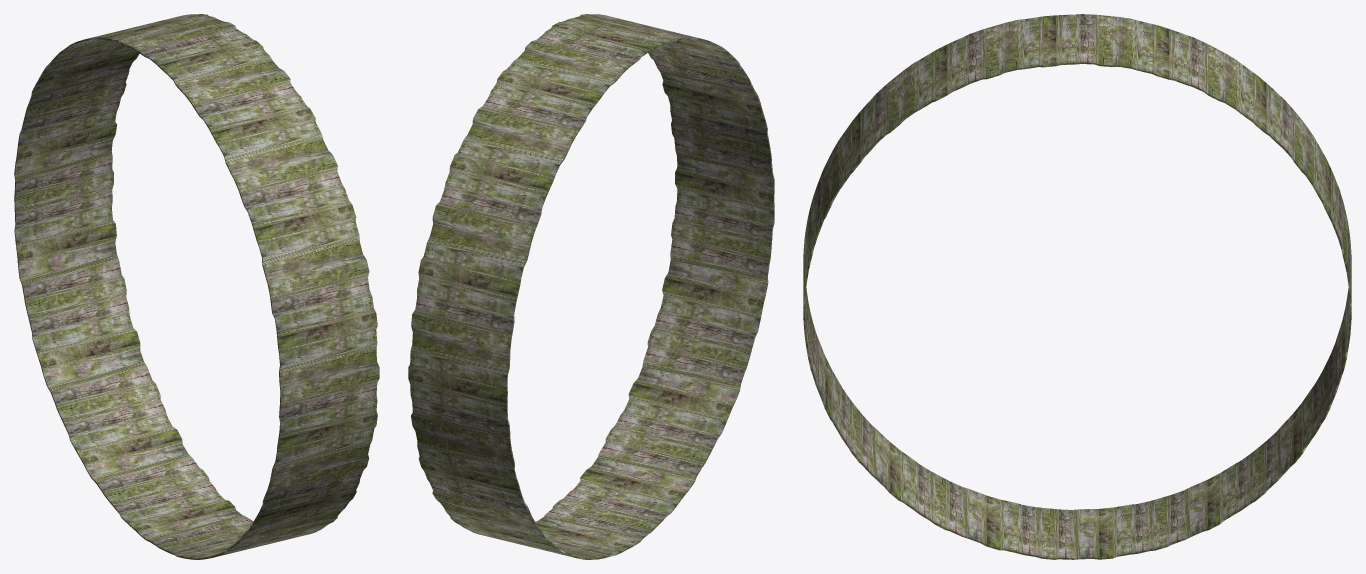
File: WHEEL-RAMP.fbx
3 renders of one model, left to right at view 1: azimuth 30°, elevation 25°; view 2: azimuth 150°, elevation 25°; view 3: azimuth 270°, elevation 25°, orthographic. The views are drawn at different scales.
Visible parts, largest first — view 1: wheel_ramp; view 2: wheel_ramp; view 3: wheel_ramp.
Part boxes in pixels (x1=…): wheel_ramp: x1=14, y1=14, x2=379, y2=559; wheel_ramp: x1=408, y1=14, x2=774, y2=559; wheel_ramp: x1=803, y1=14, x2=1351, y2=559.
Size of the model in its own units: 206 by 955 by 955.
